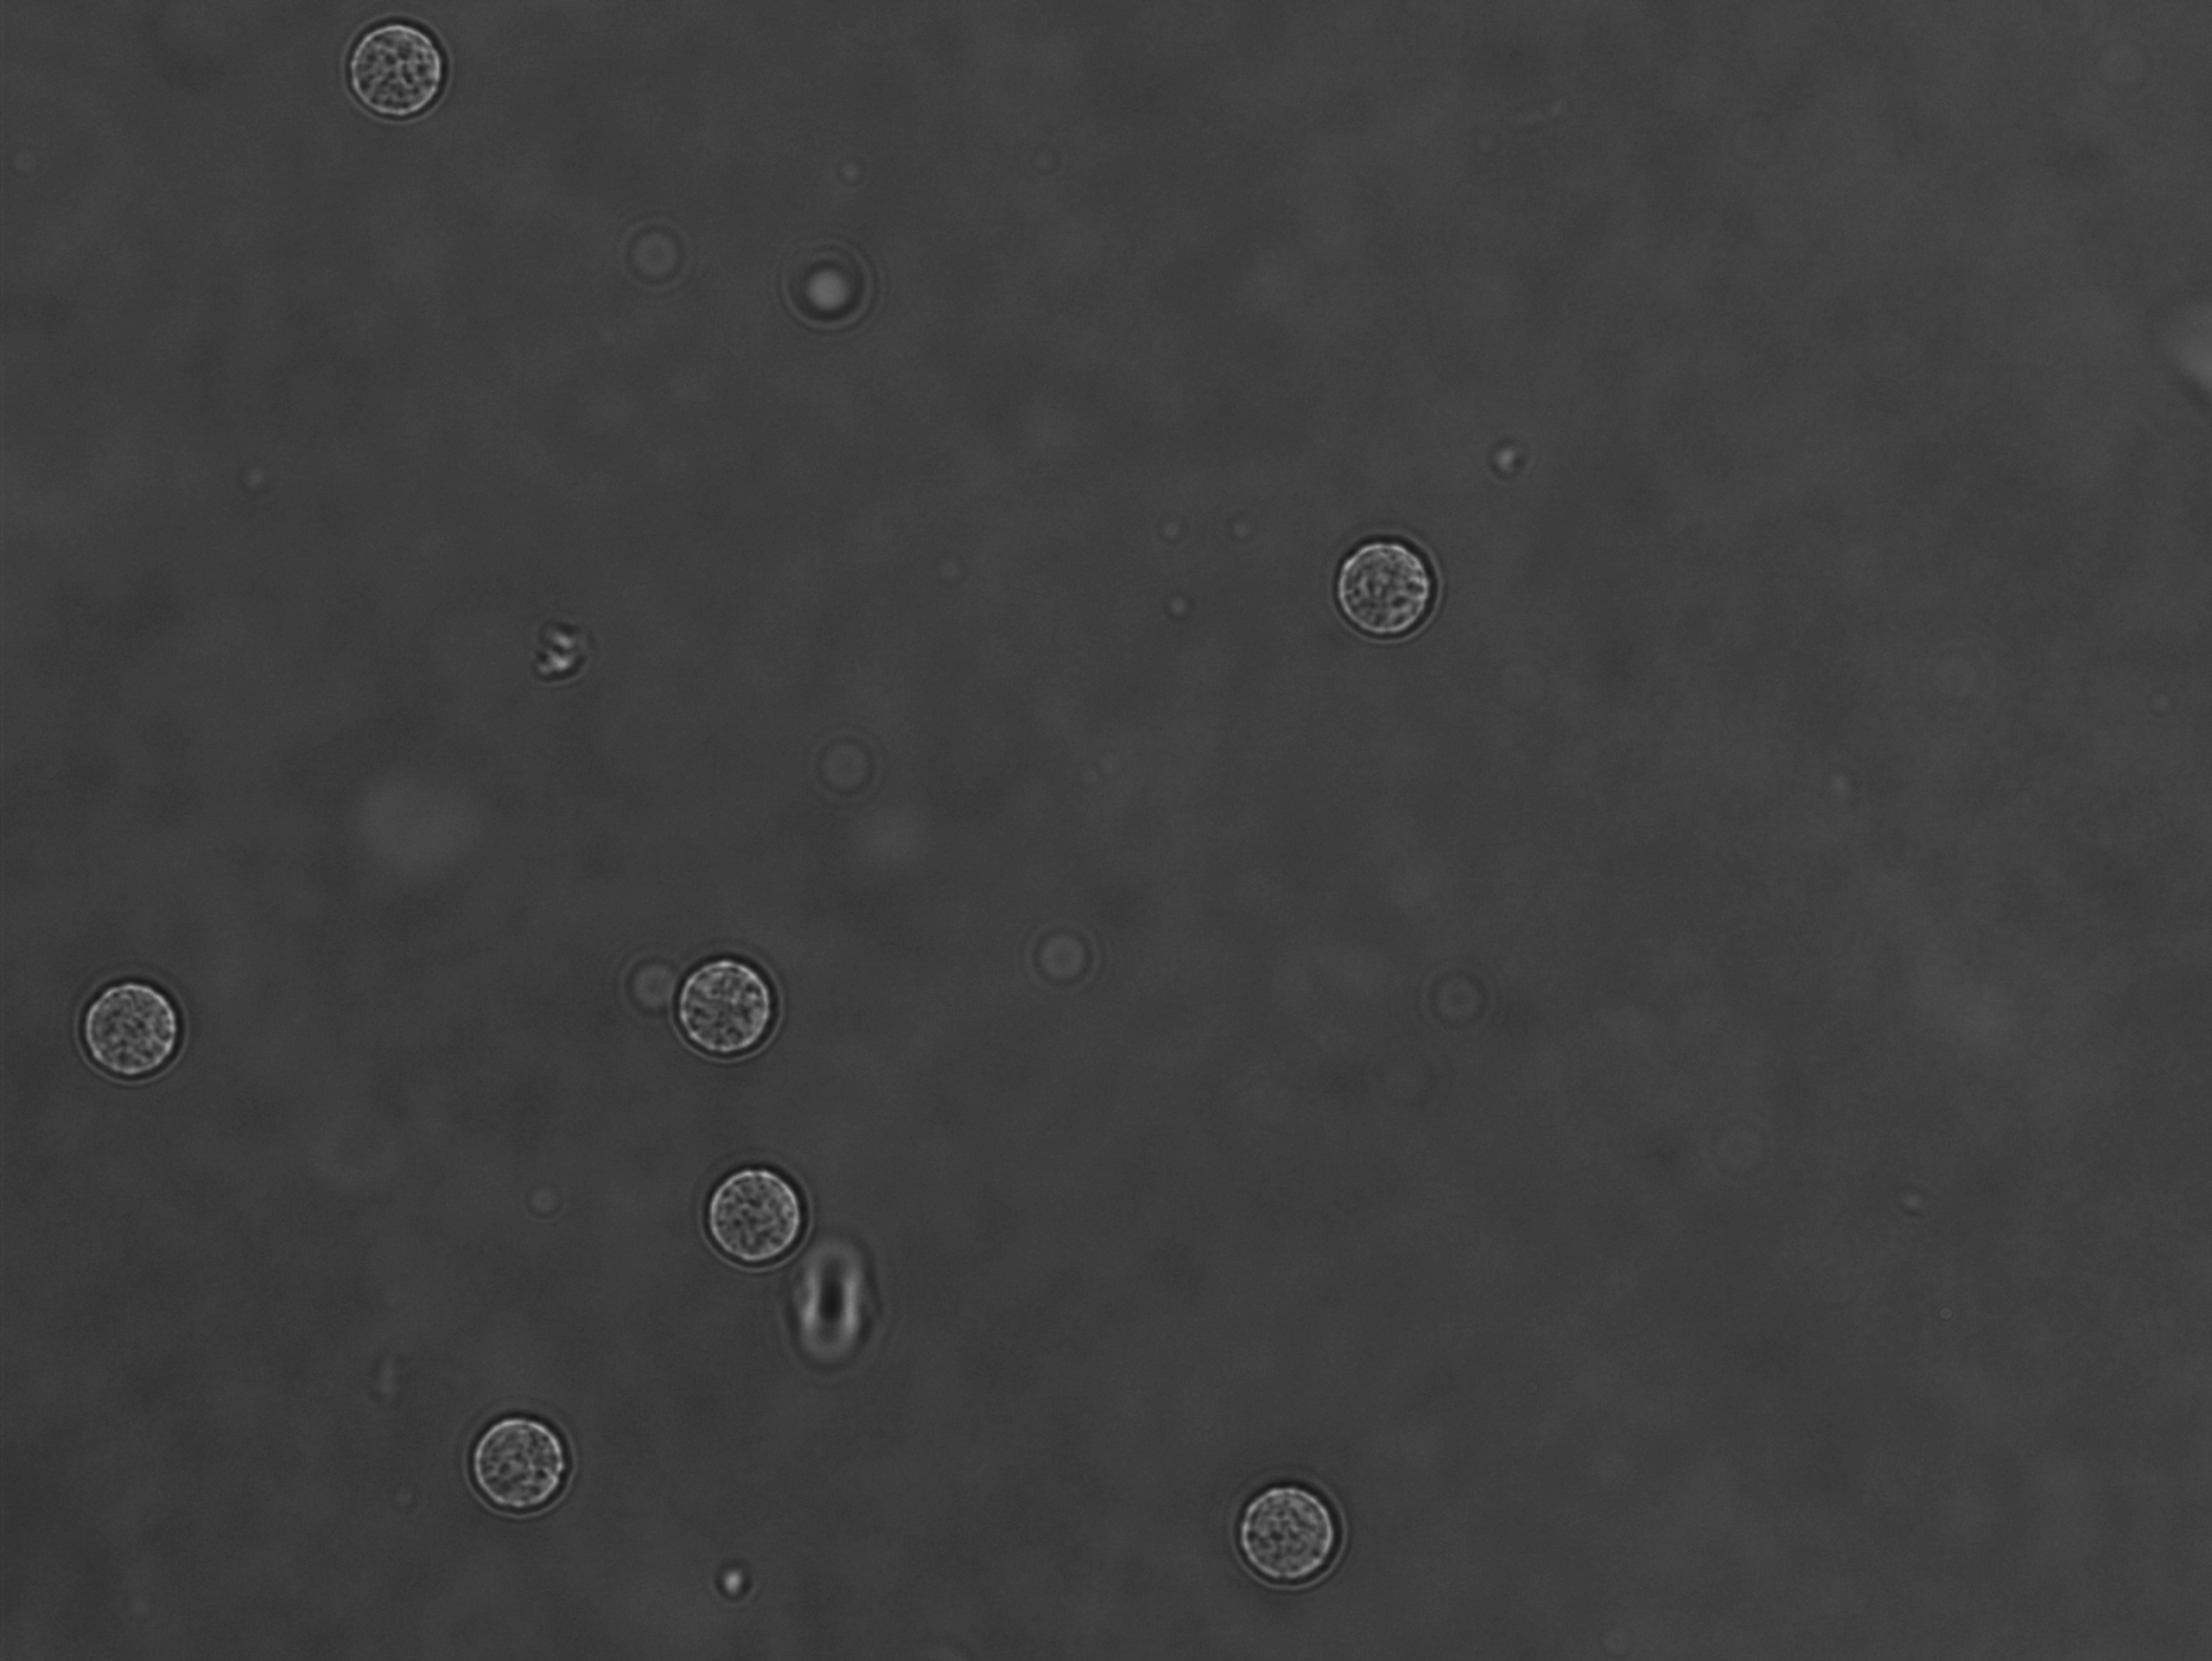depth:0: (684, 1134, 836, 1291), (58, 953, 206, 1106), (1207, 1462, 1359, 1607), (1317, 520, 1462, 654), (652, 942, 792, 1075), (345, 9, 476, 138), (459, 1398, 590, 1521)
